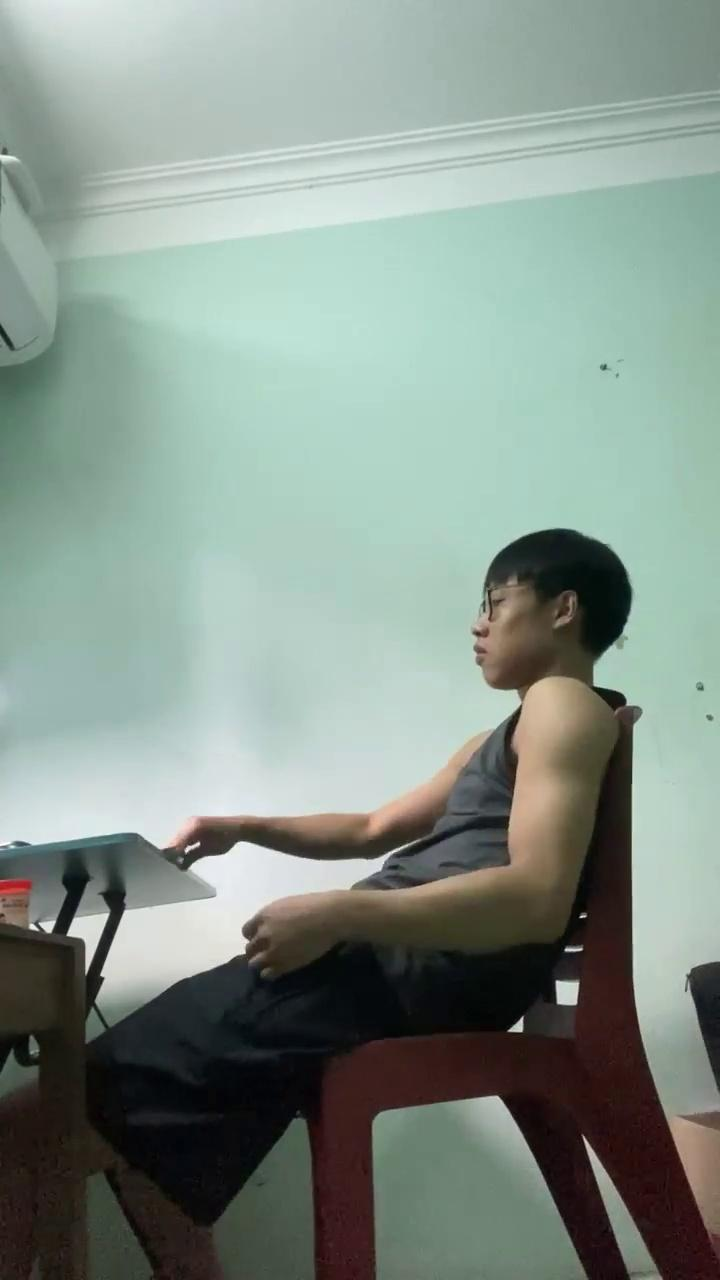BadPosture: (14, 537, 660, 1264), (249, 528, 632, 1025)
